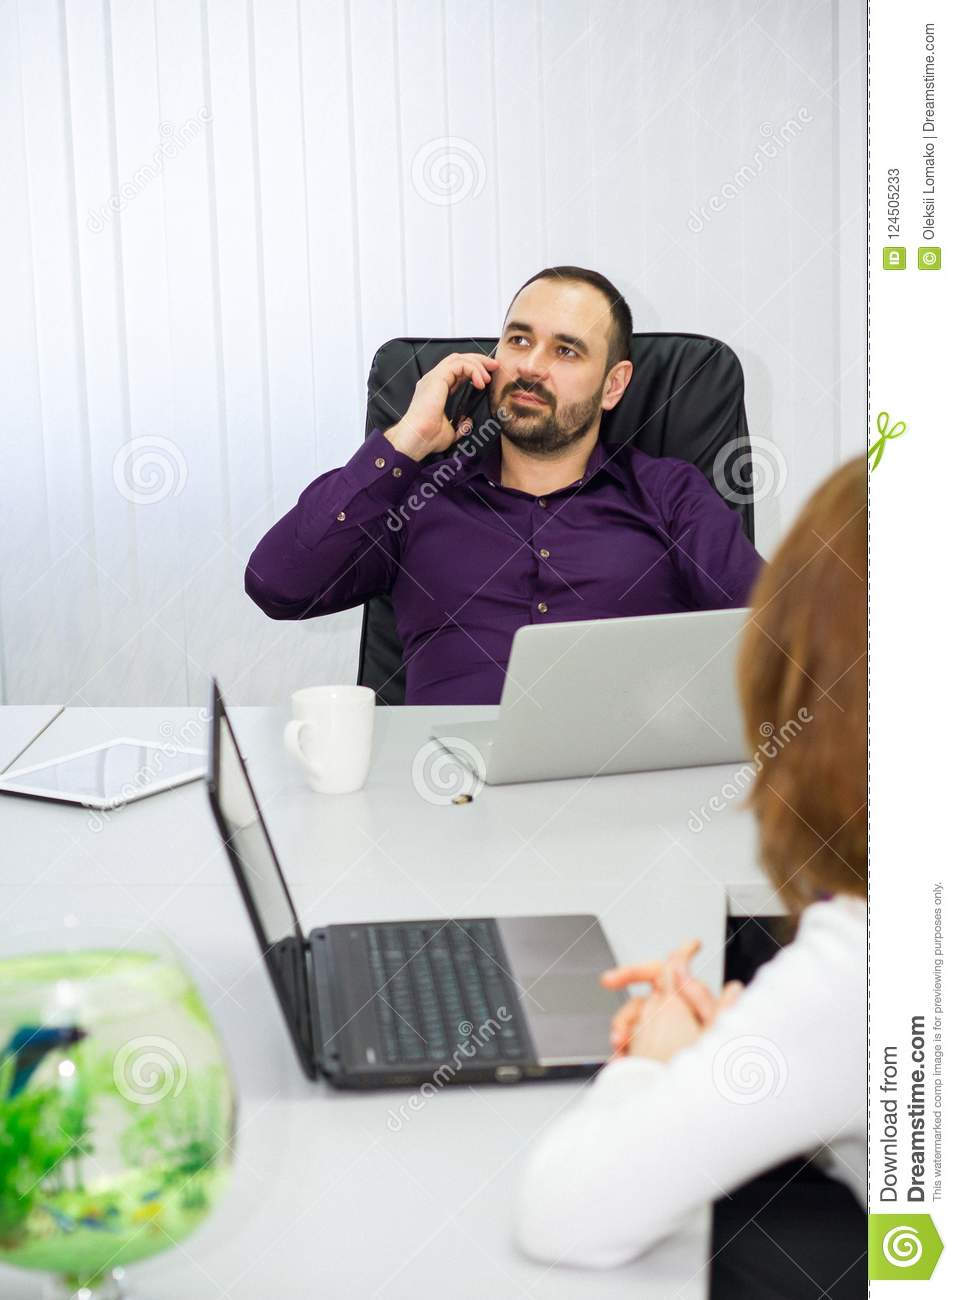phone: (452, 336, 497, 434)
talk: (398, 323, 600, 451)
